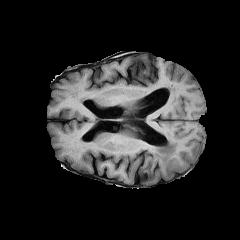glioma: (143, 131, 178, 176)
